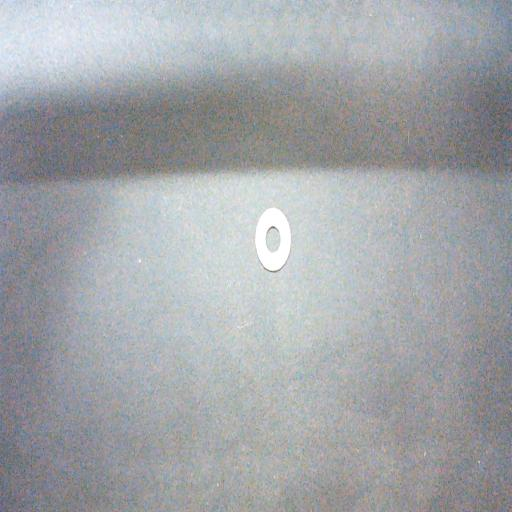washer: (255, 208, 291, 272)
